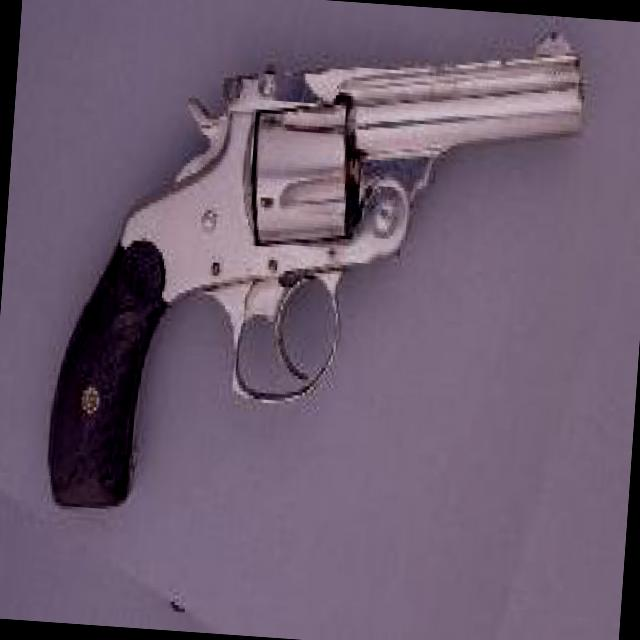handgun: (38, 0, 589, 541)
